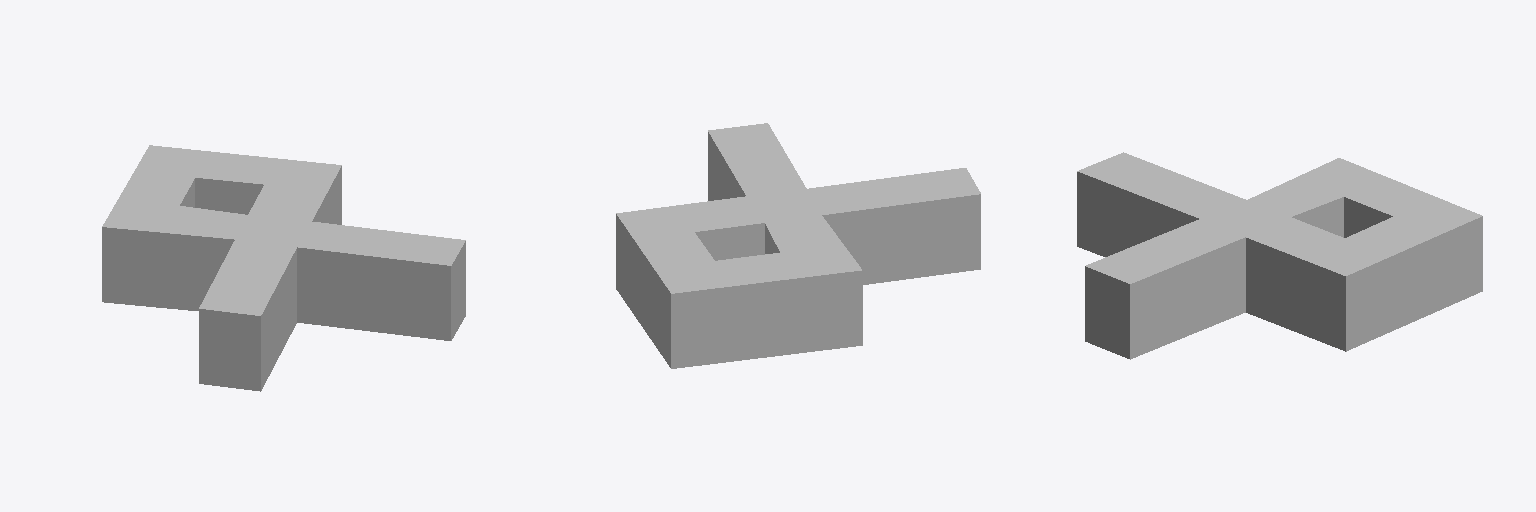
The model's file is Othilla.obj.
3 views of the same model, side by side, from view 1: azimuth 30°, elevation 25°; view 2: azimuth 150°, elevation 25°; view 3: azimuth 270°, elevation 25° (orthographic).
Parts seen in each view (by area): view 1: Othilla; view 2: Othilla; view 3: Othilla.
Boxes of the visible parts, box(x1,y1,x2,y2) form: Othilla: box(102, 145, 465, 391); Othilla: box(616, 123, 980, 368); Othilla: box(1077, 152, 1482, 359).
Bounding box in the file's own units: 0.3865 × 0.1028 × 0.5028.